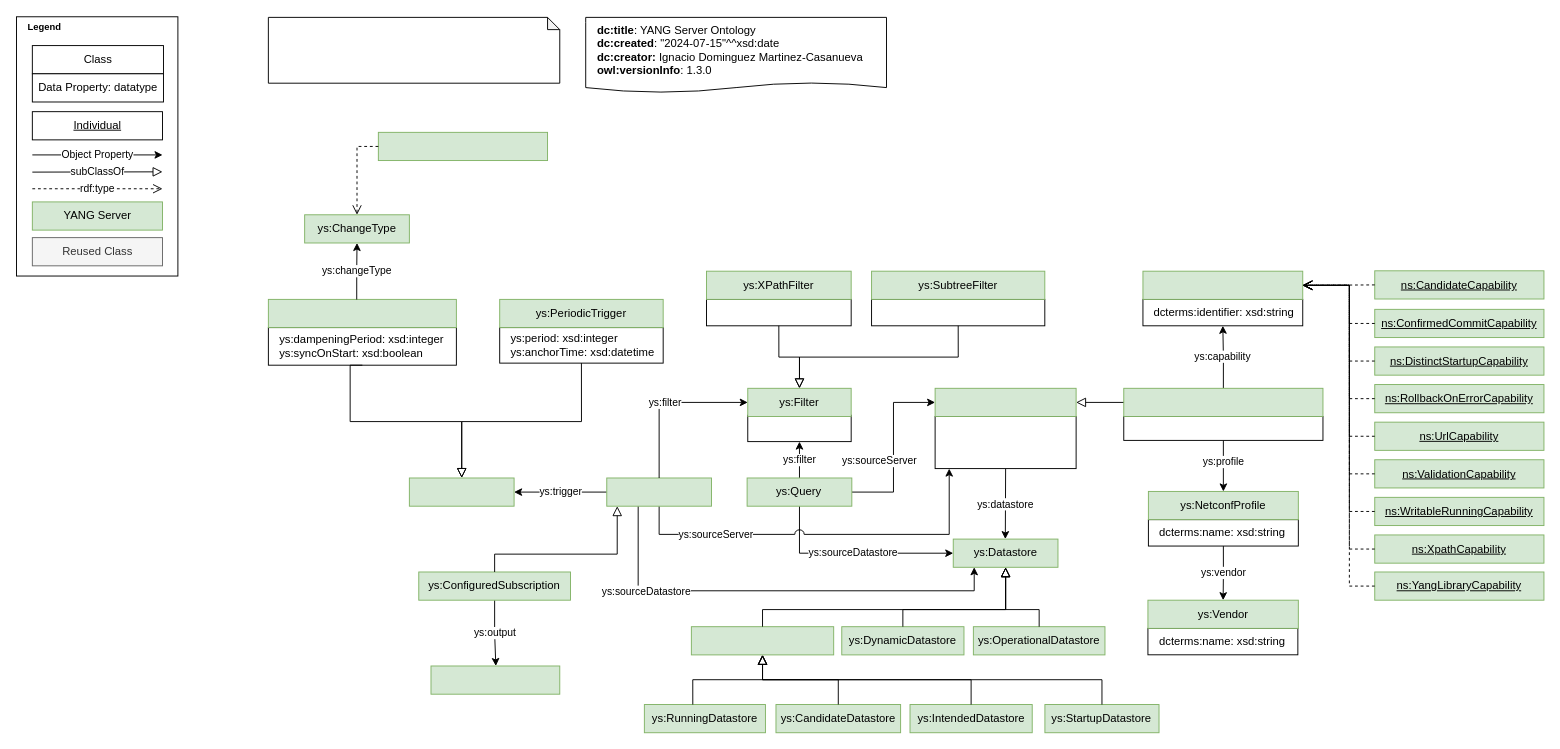
Image size: 1560x749. Some labels were removed from this diagram. The shapes that lost their labels are listed below. From the top down, each one's centre as x and y in pixels, then its label:
the point at 413,49: ys : https://w3id.org/yang/server# dcterms: http://purl.org/dc/terms/
the point at 462,146: ns:ExampleChangeType
the point at 1222,284: ys:NetconfCapability
the point at 361,313: ys:OnChangeTrigger
the point at 778,312: ys:xpathValue: xsd:string
the point at 958,312: ys:subtreeValue: rdf:XMLLiteral
the point at 1005,402: ys:YangServer
the point at 1223,402: ys:NetconfServer
the point at 799,428: ys:filterValue
the point at 1005,442: ys:endpoint: xsd:string ys:username: xsd:string ys:password: xsd:string
the point at 1223,428: ys:hostKeyVerification: xsd:boolean
the point at 461,491: ys:UpdateTrigger
the point at 658,491: ys:Subscription
the point at 762,640: ys:ConventionalDatastore
the point at 495,679: ys:SubscriptionOutput
